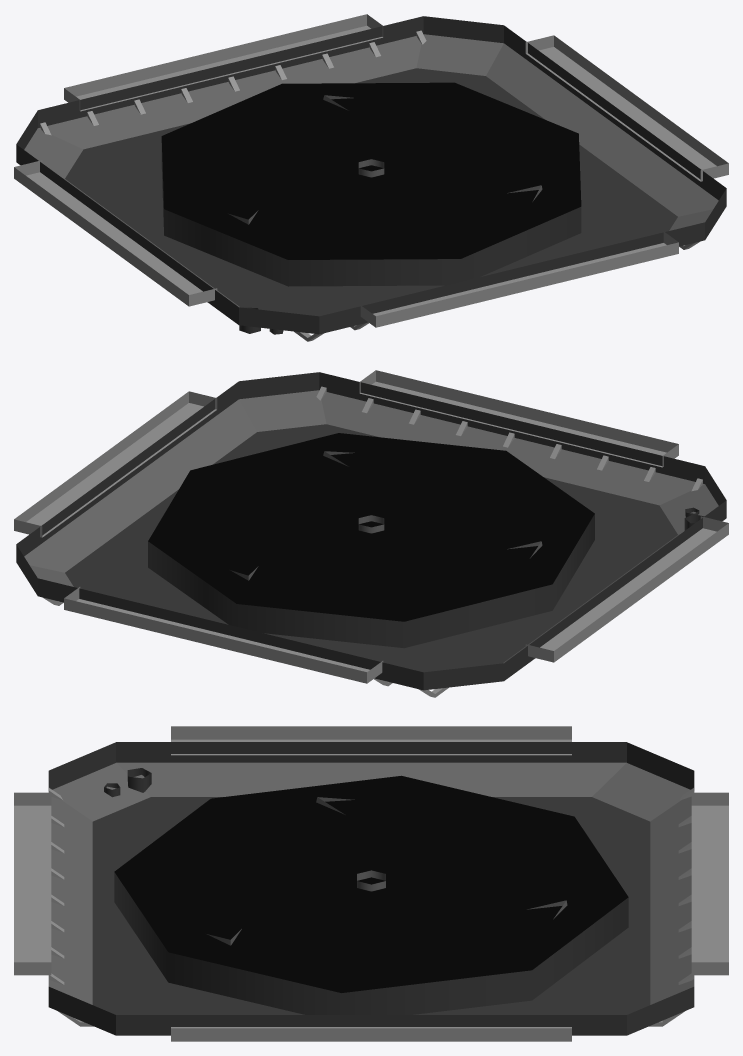
The model's file is Ceiling_Vent.fbx.
3 views of the same model, one above another, from view 1: azimuth 30°, elevation 25°; view 2: azimuth 150°, elevation 25°; view 3: azimuth 270°, elevation 25° (orthographic). The views are drawn at different scales.
Parts seen in each view (by area): view 1: Ceiling_Vent; view 2: Ceiling_Vent; view 3: Ceiling_Vent, Ceiling_Vent_Fan.
Part boxes in pixels (x1,y1,x2,y2): Ceiling_Vent: (14, 14, 728, 341); Ceiling_Vent: (14, 370, 728, 697); Ceiling_Vent: (14, 726, 728, 1041); Ceiling_Vent_Fan: (206, 797, 567, 945).
Bounding box in the file's own units: 287 × 18.92 × 287.
